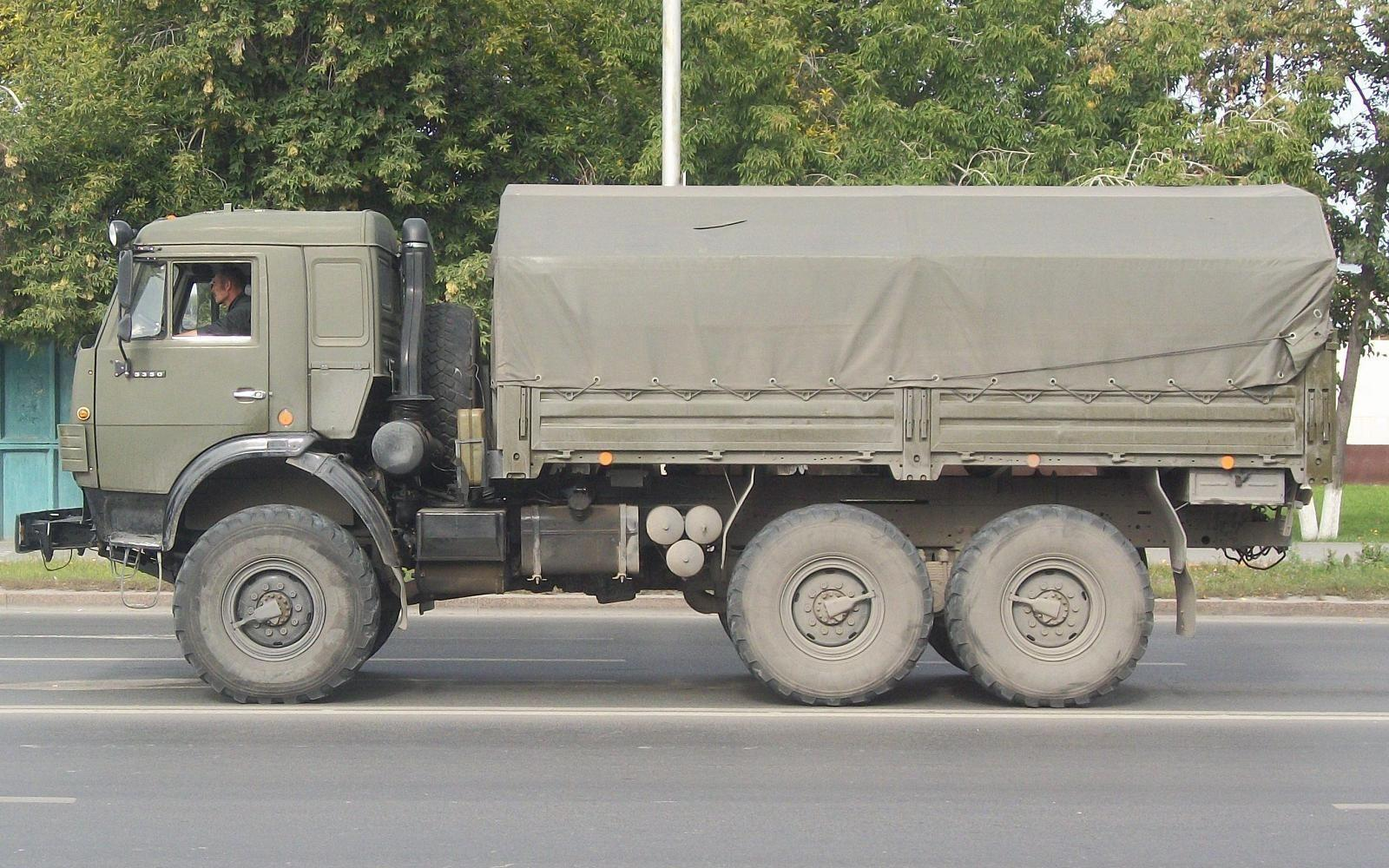truck: (51, 187, 1336, 712)
